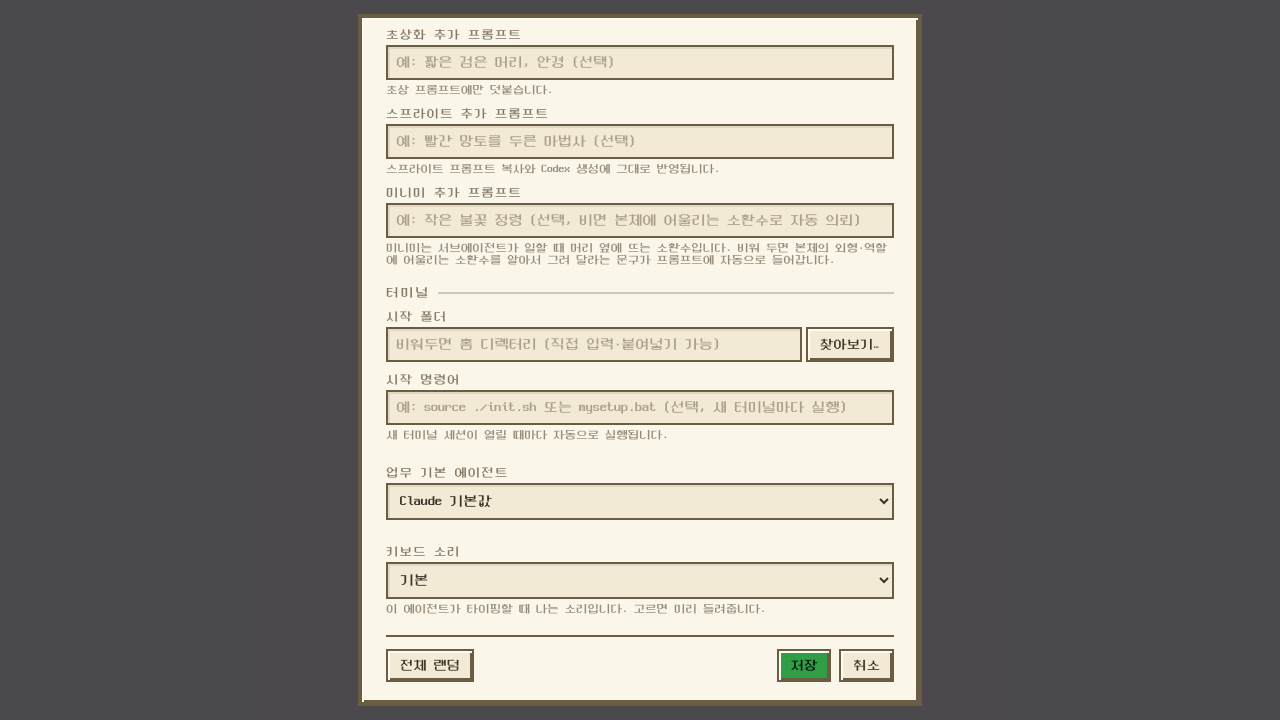
Test: random initial values (profile-create) › clicking 전체 랜덤 regenerates name/role/note/seed together
(page scrolled)
Click the button "전체 랜덤" at [430, 666], box [386,649,474,682]
(page scrolled)
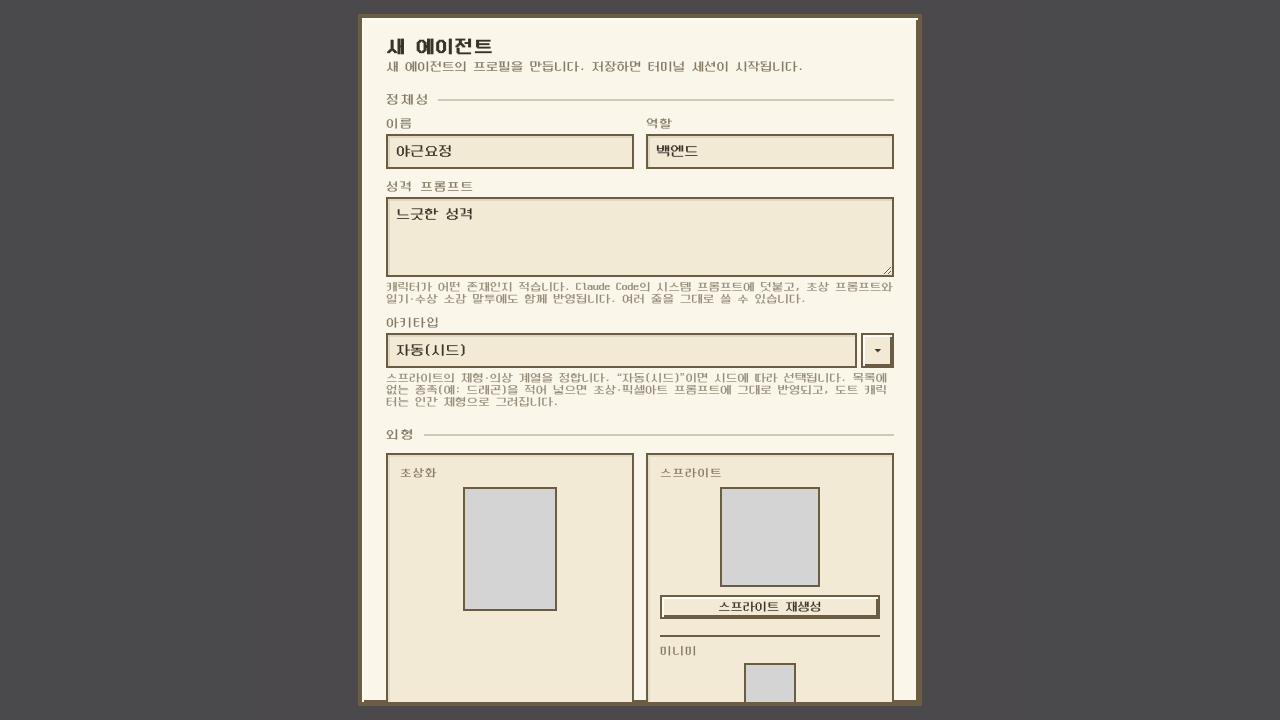
Result: the field labelled "이름" holds "야근요정" at [386,134,634,169]
Result: the field labelled "역할" holds "백엔드" at [646,134,894,169]
